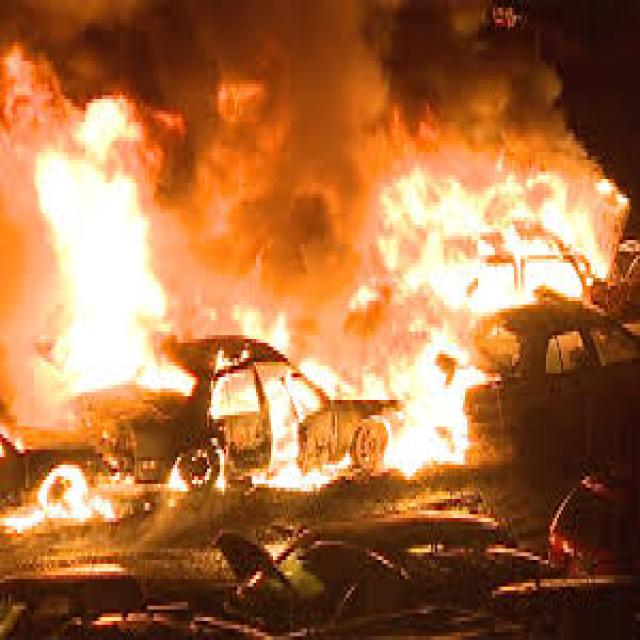Fire: (0, 80, 610, 536)
Smoke: (184, 9, 351, 257)
